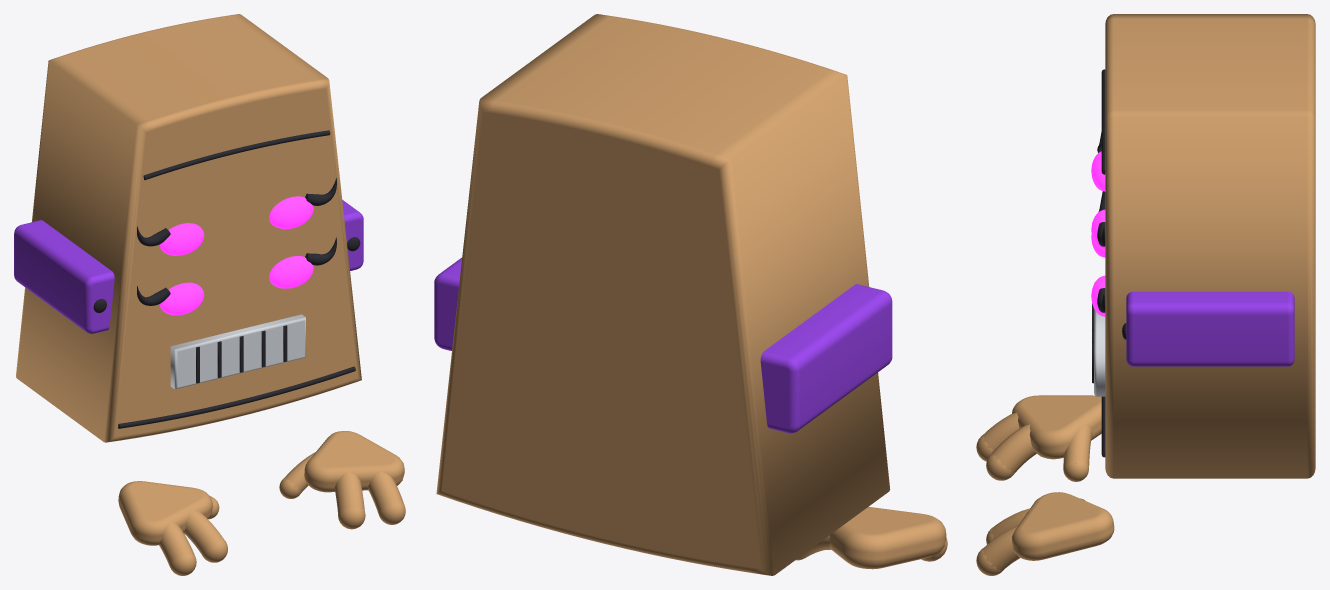
File: model-seed-2.glb
The picture shows the model from 3 angles, left to right: view 1: azimuth 30°, elevation 25°; view 2: azimuth 150°, elevation 25°; view 3: azimuth 270°, elevation 25°; orthographic projection. The views are drawn at different scales.
Visible parts, largest first — view 1: head, ear-0, mouth, hand-0, hand-1, finger-1-1, finger-0-1, finger-1-0, seam-1, finger-0-0, eye-3, eye-1 (+5 smaller); view 2: head, ear-0, hand-0, ear-1; view 3: head, ear-1, hand-1, hand-0, finger-0-1, finger-1-0, thumb-0, mouth, finger-0-0, finger-1-1, seam-0.
Boxes of the visible parts, x1,y1,x2,y2 form: head: [16, 14, 361, 442]; ear-0: [14, 220, 114, 333]; mouth: [170, 314, 305, 389]; hand-0: [118, 481, 212, 545]; hand-1: [304, 431, 404, 492]; finger-1-1: [334, 471, 365, 529]; finger-0-1: [184, 509, 227, 562]; finger-1-0: [368, 471, 405, 524]; seam-1: [118, 366, 355, 428]; finger-0-0: [159, 523, 196, 575]; eye-3: [269, 256, 313, 288]; eye-1: [269, 196, 313, 229]; head: [436, 14, 890, 575]; ear-0: [760, 284, 892, 433]; hand-0: [829, 507, 946, 569]; ear-1: [434, 257, 462, 350]; head: [1105, 14, 1315, 478]; ear-1: [1126, 291, 1294, 366]; hand-1: [1012, 492, 1114, 560]; hand-0: [1012, 395, 1101, 459]; finger-0-1: [986, 424, 1036, 480]; finger-1-0: [976, 526, 1019, 575]; thumb-0: [1063, 425, 1092, 481]; mouth: [1094, 309, 1105, 396]; finger-0-0: [976, 412, 1019, 461]; finger-1-1: [986, 508, 1030, 544]; seam-0: [1101, 69, 1105, 174].
Bounding box in the file's own units: 0.5089 × 0.7202 × 0.4839.
